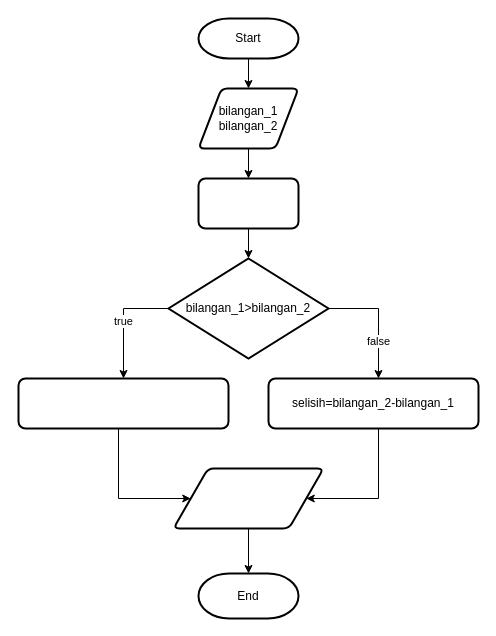
Some shapes in this 496 by 636 pixel diagram are drawn without their labels. Each missing label, with the centre of its shape:
hitung_selisih: the point at 248,203
print=(nilai_selish): the point at 248,498
selisih=bilangan_1-bilangan_2: the point at 123,403
